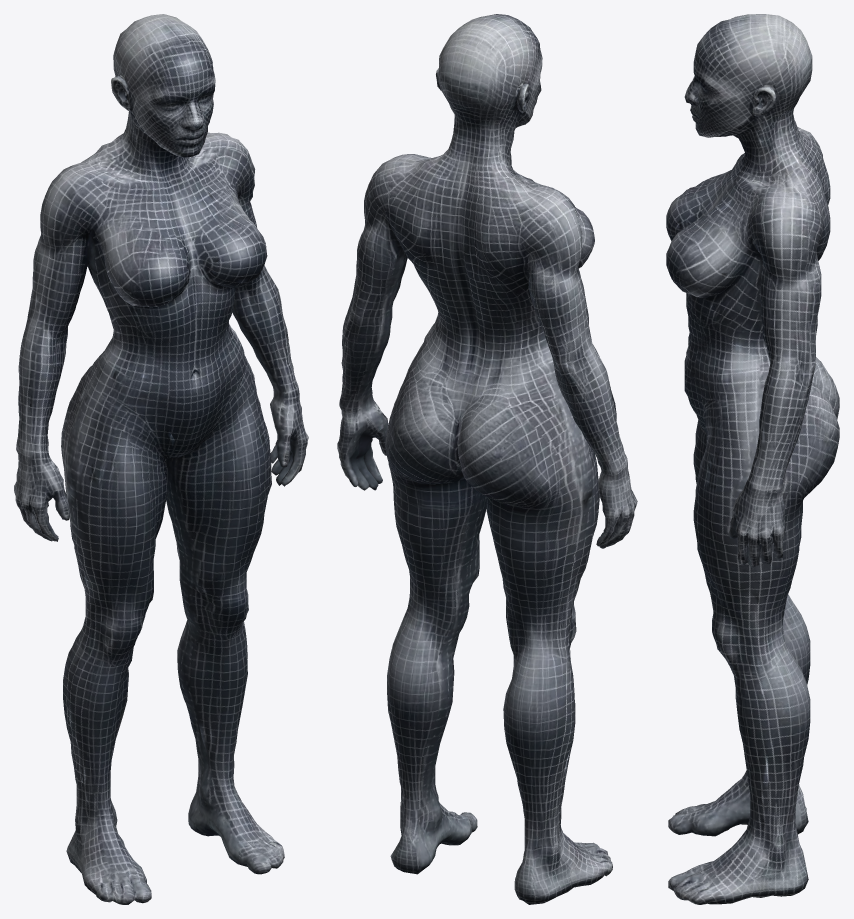
Rendered from timein-anatomy-female-opt.glb.
3 renders of one model, left to right at view 1: azimuth 30°, elevation 25°; view 2: azimuth 150°, elevation 25°; view 3: azimuth 270°, elevation 25°, orthographic.
Visible parts, largest first — view 1: tripo_node_bd692099-09b5-40d3-9ca3-e2dfbae3fc4f; view 2: tripo_node_bd692099-09b5-40d3-9ca3-e2dfbae3fc4f; view 3: tripo_node_bd692099-09b5-40d3-9ca3-e2dfbae3fc4f.
Boxes of the visible parts, <box> form: tripo_node_bd692099-09b5-40d3-9ca3-e2dfbae3fc4f: <box>14,14,308,904</box>; tripo_node_bd692099-09b5-40d3-9ca3-e2dfbae3fc4f: <box>337,14,637,904</box>; tripo_node_bd692099-09b5-40d3-9ca3-e2dfbae3fc4f: <box>666,14,839,904</box>.
Size of the model in its own units: 0.3462 by 0.9775 by 0.1817.
Materials: 1 (1 with a texture image).
